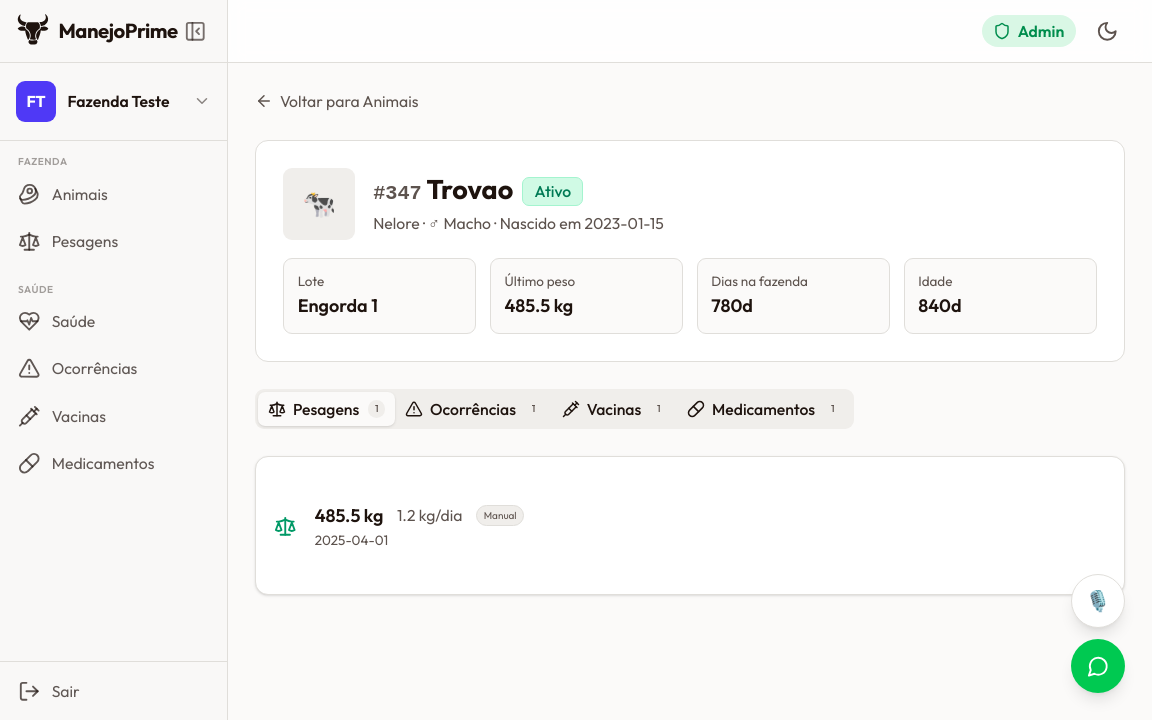
animal detail page › Medications tab renders medication rows from API
The image size is (1152, 720).
Expected: the text "485.5 kg" below "Último peso" is shown, top-left (504, 294), bottom-right (573, 317)
Press the mouse on the tab "Medicamentos 1" at (764, 409), box top-left (677, 392), bottom-right (851, 426)
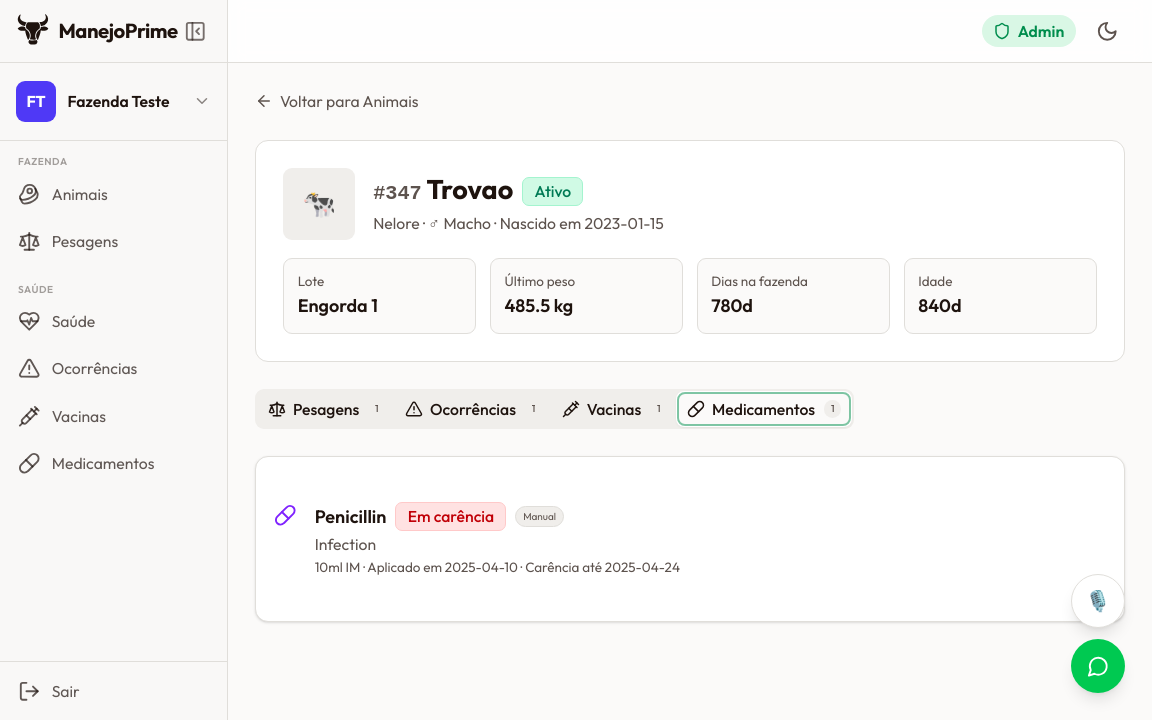
Now the text "Penicillin" is shown, box top-left (315, 503), bottom-right (386, 530)
Now the text "Em carência" is shown, box top-left (396, 502), bottom-right (506, 531)
